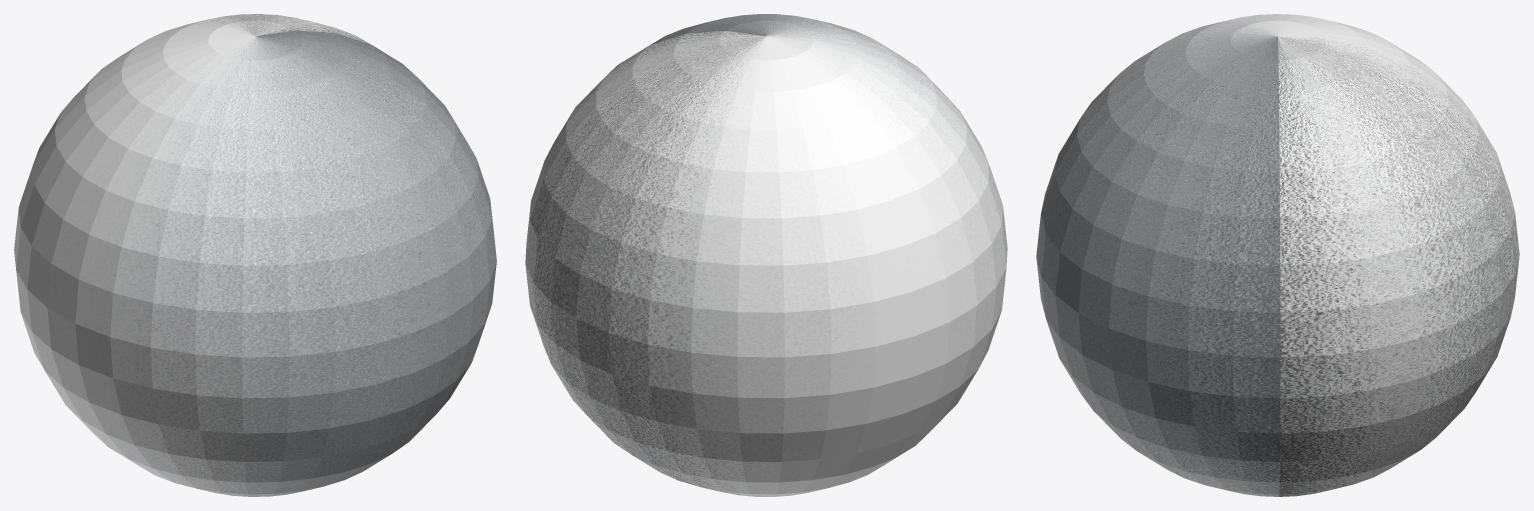
File: esfera.obj
The picture shows the model from 3 angles, left to right: view 1: azimuth 30°, elevation 25°; view 2: azimuth 150°, elevation 25°; view 3: azimuth 270°, elevation 25°; orthographic projection.
Visible parts, largest first — view 1: ESFERA; view 2: ESFERA; view 3: ESFERA.
Part boxes in pixels (x1,y1,x2,y2): ESFERA: (14, 14, 496, 496); ESFERA: (525, 14, 1007, 496); ESFERA: (1036, 14, 1519, 496).
Size of the model in its own units: 0.2038 by 0.2038 by 0.2038.
Materials: 1 (1 with a texture image).
